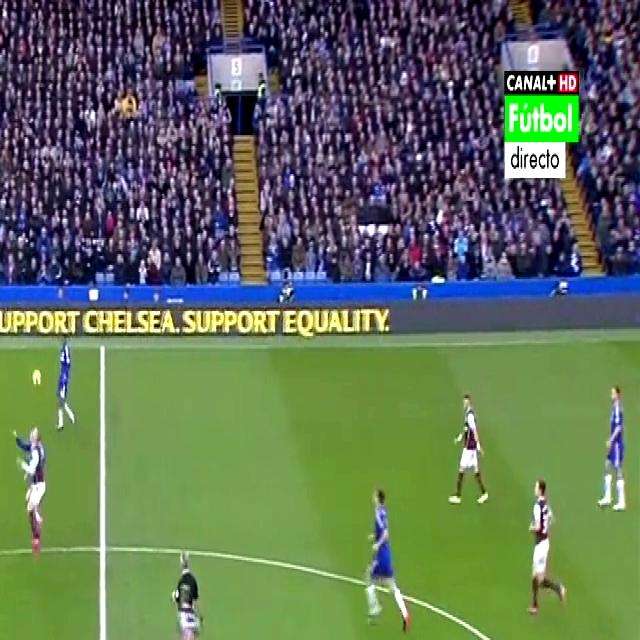ball: (30, 358, 44, 395)
soccer-player: (358, 468, 420, 638), (10, 415, 54, 571), (526, 474, 570, 626), (590, 376, 629, 518), (449, 393, 492, 512), (153, 579, 217, 640), (53, 326, 80, 434)
